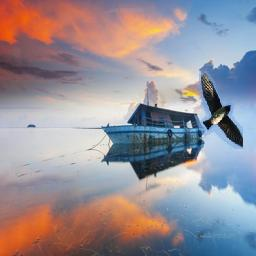Swallow: (199, 71, 243, 149)
